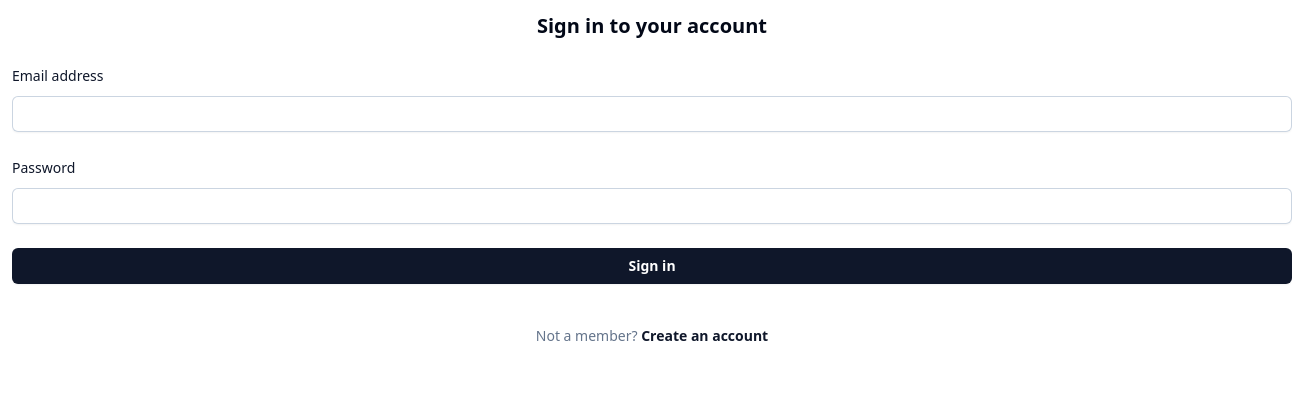
it: Login Component › validates empty inputs on submit
This screenshot has width=1304, height=406.
Click the button "Sign in".
click(652, 266)  # box [12,248,1292,284]
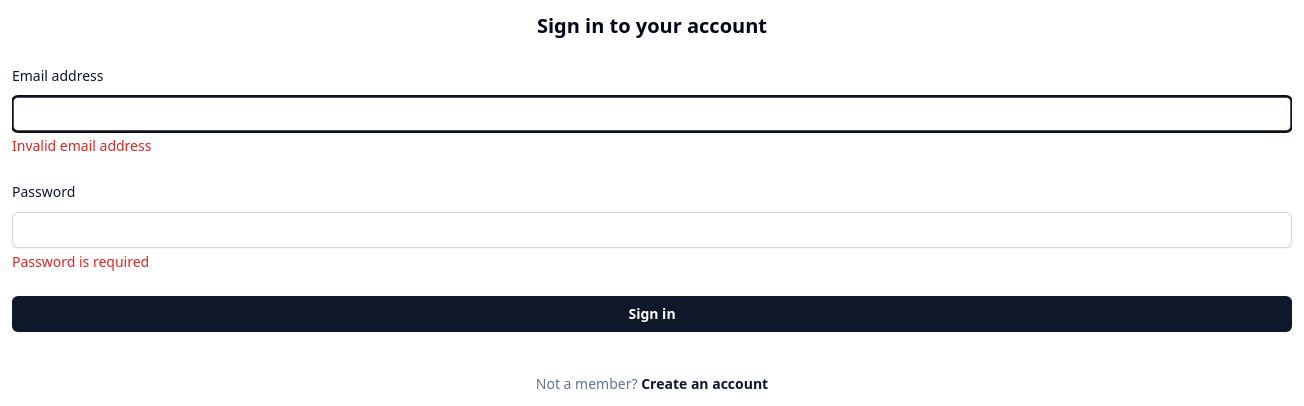
Result: the text "Invalid email address" is shown at [12,136,151,155]
Result: the text "Password is required" is shown at [12,252,149,271]
